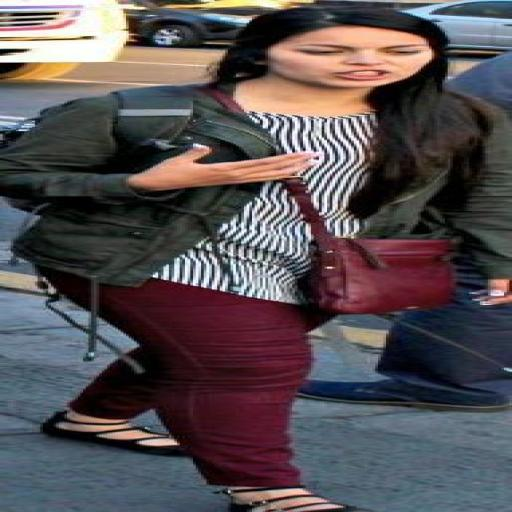person: (0, 7, 511, 511), (301, 262, 511, 412), (448, 52, 511, 117)
